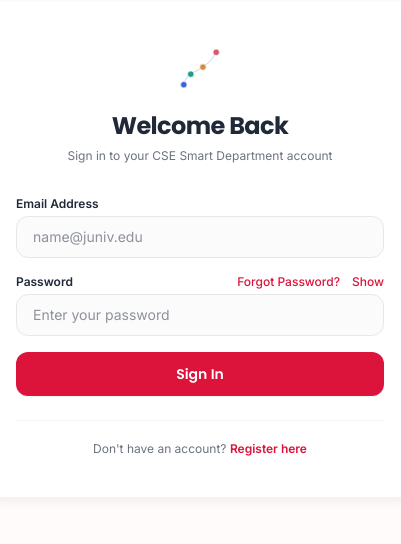
Test: LoginForm (React Testing Library Component Seam) › displays user-friendly error message above submit button on login failure
Step 1. Type "wrong@juniv.edu" into the field with placeholder "name@juniv.edu" → (200, 236), box [16,216,384,258]
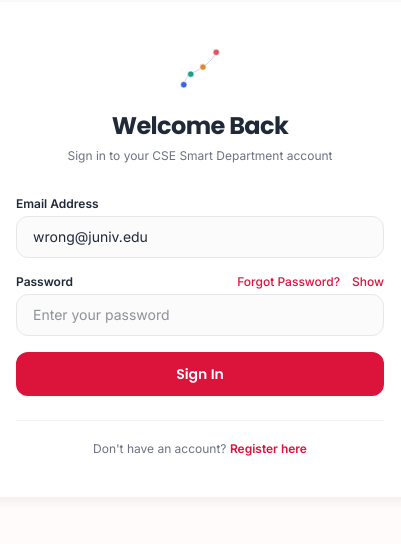
Step 2. Type "WrongPass123" into the password field with placeholder "Enter your password" → (200, 314), box [16,294,384,336]
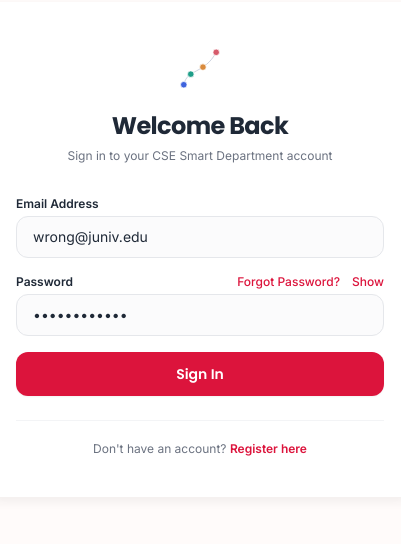
Step 3. Click the button "Sign In" → click(200, 374), box [16,352,384,396]
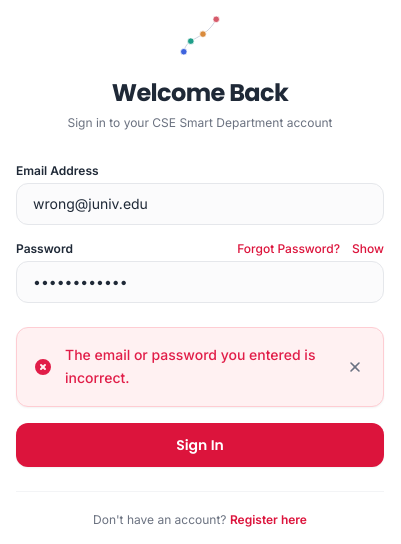
Expected: the text "The email or password you entered is incorrect." is shown, [65,344,343,390]
